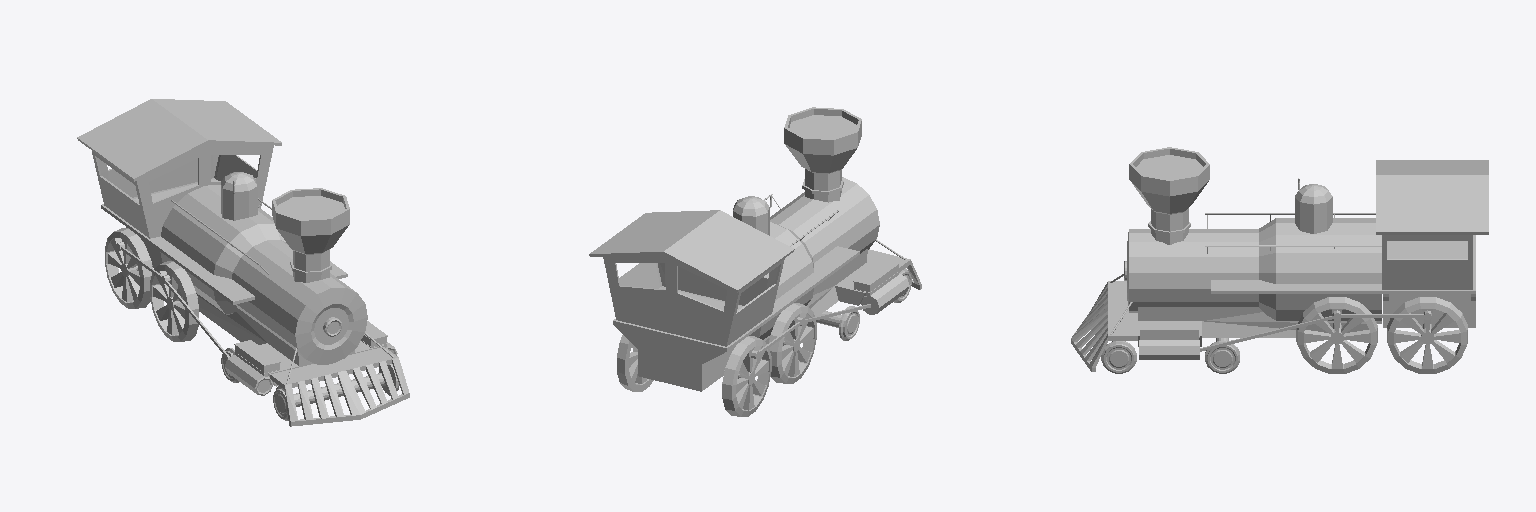
File: Train.obj
The picture shows the model from 3 angles: view 1: azimuth 30°, elevation 25°; view 2: azimuth 150°, elevation 25°; view 3: azimuth 270°, elevation 25°; orthographic projection.
Parts seen in each view (by area): view 1: chaudiere_Cylinder.001, cabineToit_Cube.003, cabine_Cube, chasseBoeufs_Cube.000, base_Cube.002, roues.002_Circle.001, roues.003_Circle.001, cabinePlateforme_Cube.004, roues.000_Circle, pistons_Cylinder.002; view 2: chaudiere_Cylinder.001, cabine_Cube, cabineToit_Cube.003, cabinePlateforme_Cube.004, roues.003_Circle.001, base_Cube.002, roues.002_Circle.001, roues.001_Circle, chasseBoeufs_Cube.000, pistons_Cylinder.002; view 3: chaudiere_Cylinder.001, cabineToit_Cube.003, base_Cube.002, cabine_Cube, cabinePlateforme_Cube.004, roues.003_Circle.001, roues.002_Circle.001, chasseBoeufs_Cube.000, pistons_Cylinder.002, roues.000_Circle, roues.001_Circle, chaudiere.001_Cylinder.000.
Part boxes in pixels (left/top/right/bottom): chaudiere_Cylinder.001: left=160, top=172, right=367, bottom=364; cabineToit_Cube.003: left=77, top=99, right=281, bottom=181; cabine_Cube: left=92, top=143, right=273, bottom=238; chasseBoeufs_Cube.000: left=270, top=333, right=409, bottom=426; base_Cube.002: left=196, top=293, right=397, bottom=395; roues.002_Circle.001: left=150, top=261, right=198, bottom=341; roues.003_Circle.001: left=105, top=228, right=152, bottom=308; cabinePlateforme_Cube.004: left=101, top=204, right=347, bottom=304; roues.000_Circle: left=273, top=364, right=399, bottom=420; pistons_Cylinder.002: left=116, top=242, right=229, bottom=358; chaudiere_Cylinder.001: left=733, top=107, right=879, bottom=339; cabine_Cube: left=603, top=255, right=784, bottom=346; cabineToit_Cube.003: left=589, top=210, right=794, bottom=292; cabinePlateforme_Cube.004: left=613, top=246, right=859, bottom=391; roues.003_Circle.001: left=617, top=335, right=771, bottom=416; base_Cube.002: left=764, top=249, right=909, bottom=343; roues.002_Circle.001: left=769, top=303, right=816, bottom=383; roues.001_Circle: left=816, top=306, right=859, bottom=340; chasseBoeufs_Cube.000: left=867, top=239, right=921, bottom=289; pistons_Cylinder.002: left=751, top=304, right=870, bottom=358; chaudiere_Cylinder.001: left=1124, top=147, right=1381, bottom=323; cabineToit_Cube.003: left=1376, top=160, right=1488, bottom=234; base_Cube.002: left=1138, top=307, right=1376, bottom=359; cabine_Cube: left=1382, top=235, right=1472, bottom=289; cabinePlateforme_Cube.004: left=1211, top=235, right=1475, bottom=327; roues.003_Circle.001: left=1387, top=297, right=1467, bottom=373; roues.002_Circle.001: left=1296, top=297, right=1377, bottom=373; chasseBoeufs_Cube.000: left=1071, top=274, right=1137, bottom=371; pistons_Cylinder.002: left=1200, top=310, right=1431, bottom=351; roues.000_Circle: left=1101, top=341, right=1136, bottom=373; roues.001_Circle: left=1205, top=338, right=1239, bottom=373; chaudiere.001_Cylinder.000: left=1205, top=213, right=1381, bottom=253.
Size of the model in its own units: 1.62 by 1.91 by 3.93.